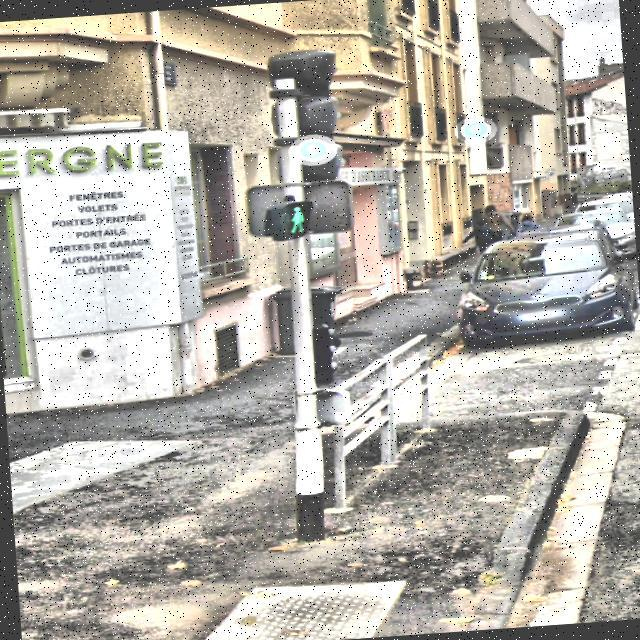green_light: (284, 202, 307, 234)
